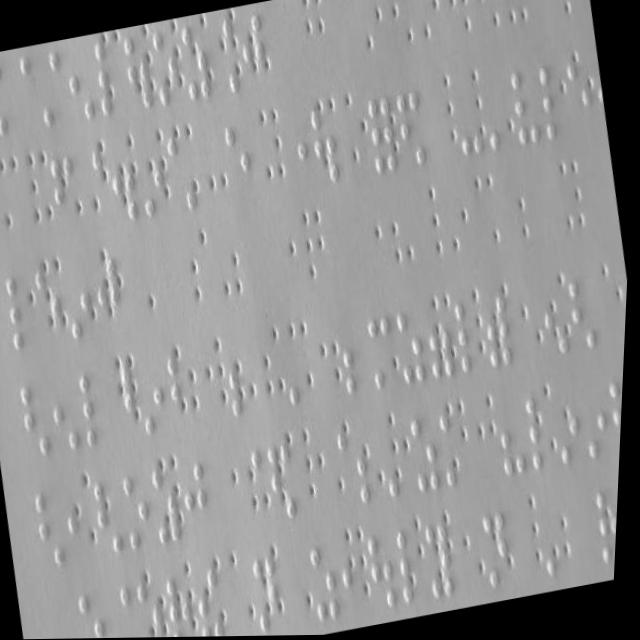braiile: (134, 350, 177, 439), (2, 269, 45, 358), (76, 368, 121, 451), (335, 315, 377, 398), (60, 258, 101, 343), (308, 542, 349, 626), (34, 485, 75, 569), (578, 382, 619, 465), (120, 469, 160, 553), (565, 275, 605, 357), (18, 379, 59, 458), (367, 532, 406, 615), (61, 42, 100, 124), (477, 71, 515, 155), (495, 399, 534, 480), (48, 375, 87, 456), (449, 80, 488, 161), (507, 69, 545, 151), (409, 416, 448, 495), (365, 314, 404, 393), (394, 311, 433, 390), (535, 64, 573, 145), (453, 297, 490, 378), (0, 58, 27, 141), (606, 375, 627, 458), (81, 592, 118, 639), (51, 597, 87, 639)
